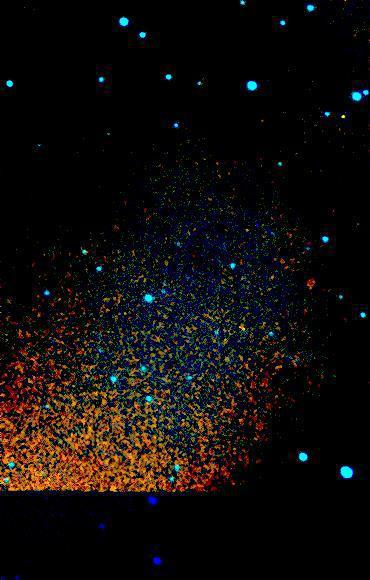star: (328, 100, 358, 130)
